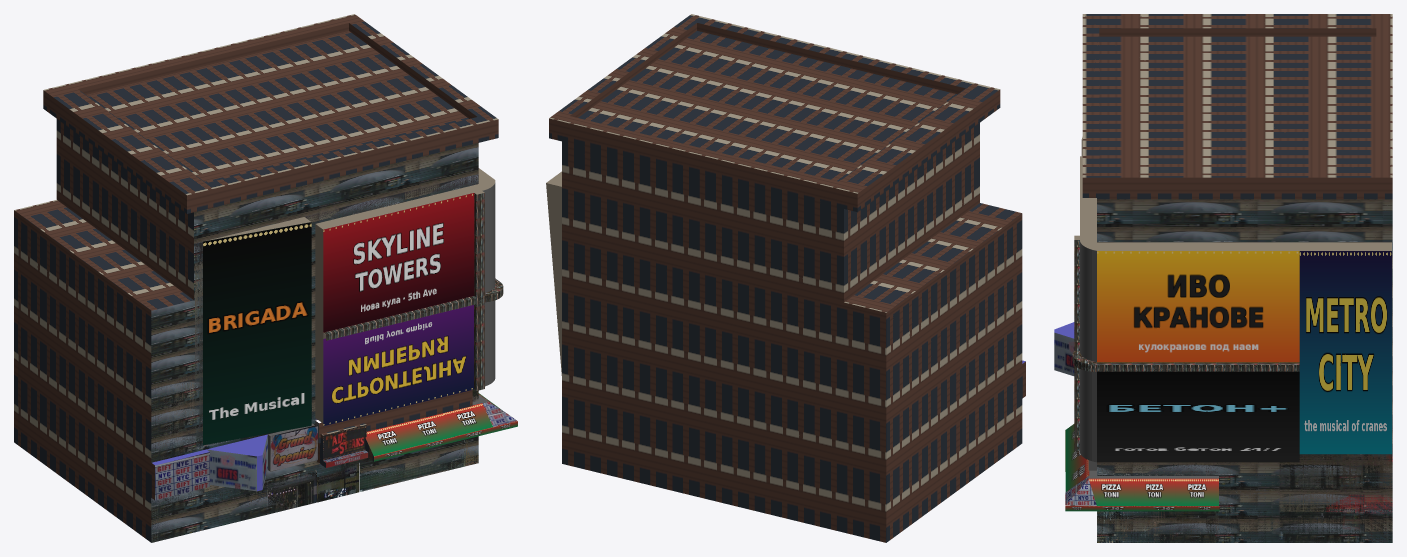
Rendered from timessq.glb.
3 renders of one model, left to right at view 1: azimuth 30°, elevation 25°; view 2: azimuth 150°, elevation 25°; view 3: azimuth 270°, elevation 25°, orthographic. The views are drawn at different scales.
Parts seen in each view (by area): view 1: Material3 (×6), Material2 (×13), Material4; view 2: Material3 (×2); view 3: Material3 (×5), Material2 (×9), Material4.
Part boxes in pixels (x1,y1,x2,y2): Material3 (×6): [14, 14, 517, 542]; Material2 (×13): [151, 174, 517, 542]; Material4: [323, 193, 503, 390]; Material3 (×2): [546, 14, 1025, 542]; Material3 (×5): [1065, 14, 1392, 542]; Material2 (×9): [1054, 251, 1392, 542]; Material4: [1072, 240, 1299, 451].
Size of what is drawn, in the model's own units: 276 by 259 by 213.
Materials: 31 (29 with a texture image).
